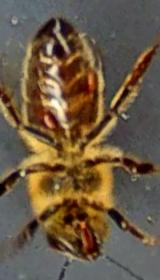varroa_mite: (72, 65, 106, 93), (38, 107, 64, 129)
